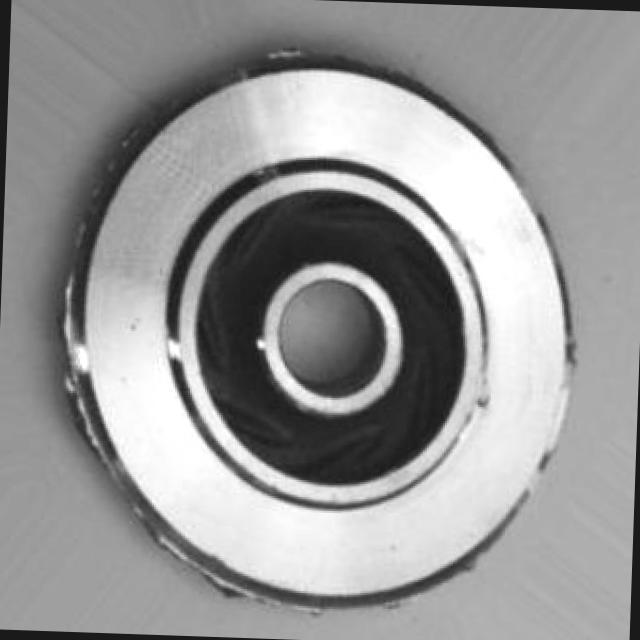Defect: (36, 307, 95, 413)
